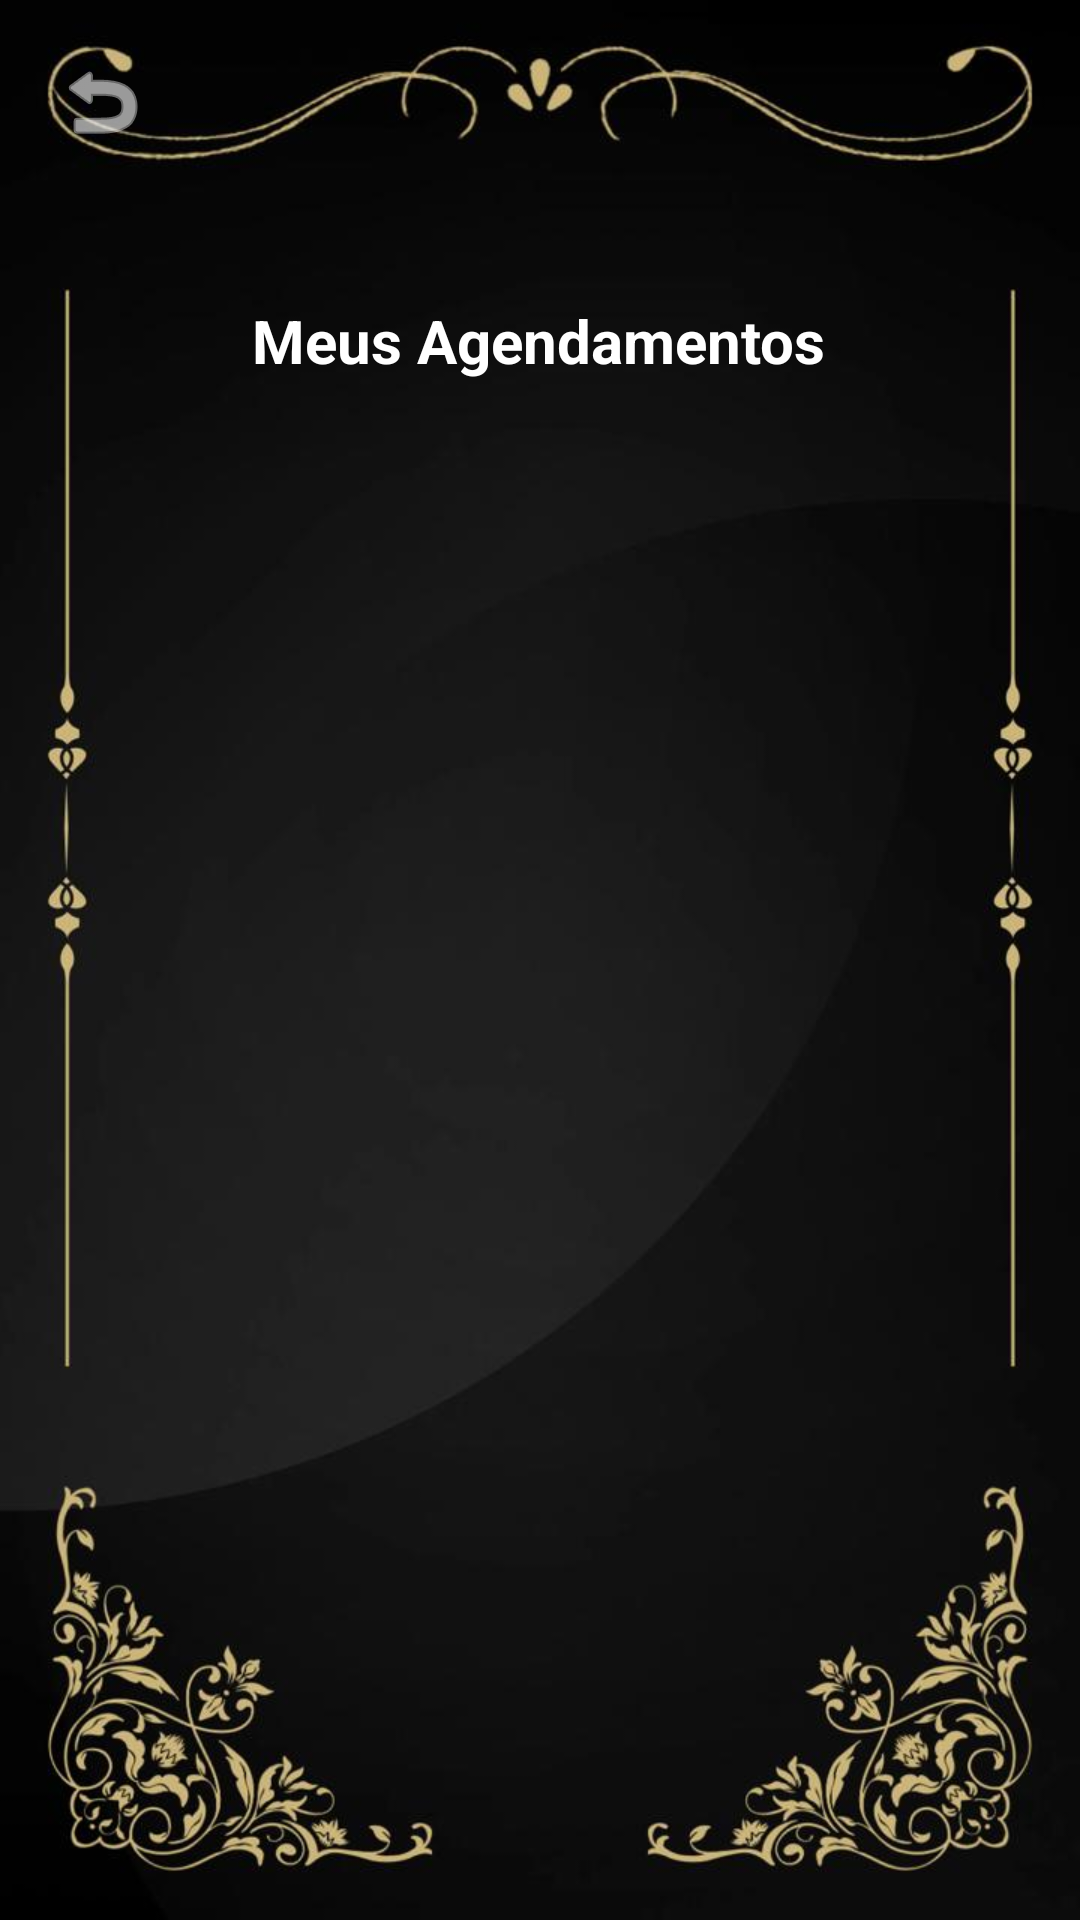

Named icons in this screenshot (1080×1920) and their bounding boxes, (x1, y1, x2, y2):
Voltar: (48, 48, 156, 156)
